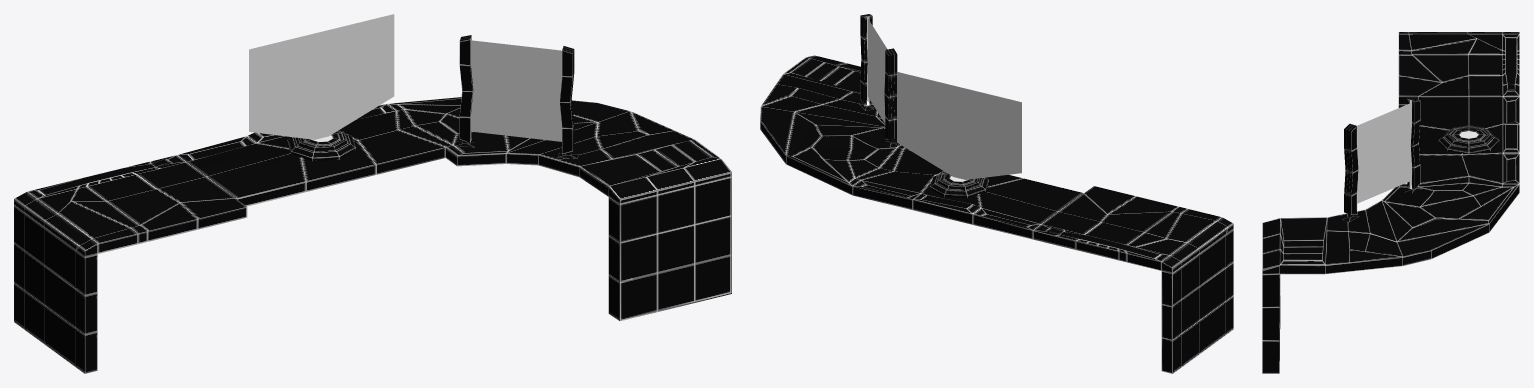
The model's file is MonitorSetup.fbx.
3 renders of one model, left to right at view 1: azimuth 30°, elevation 25°; view 2: azimuth 150°, elevation 25°; view 3: azimuth 270°, elevation 25°, orthographic. The views are drawn at different scales.
Visible parts, largest first — view 1: mesa, MainQuad, HackerQuad, monitorPrincipal, monitorSecundario.001, monitorSecundario; view 2: mesa, MainQuad, HackerQuad, monitorSecundario, monitorPrincipal, monitorSecundario.001; view 3: mesa, HackerQuad, monitorPrincipal, monitorSecundario.001, monitorSecundario.
Part boxes in pixels (left/top/right/bottom): mesa: left=14, top=97, right=731, bottom=373; MainQuad: left=249, top=14, right=394, bottom=139; HackerQuad: left=470, top=40, right=561, bottom=141; monitorPrincipal: left=287, top=130, right=355, bottom=161; monitorSecundario.001: left=557, top=46, right=578, bottom=158; monitorSecundario: left=455, top=35, right=474, bottom=147; mesa: left=760, top=55, right=1233, bottom=373; MainQuad: left=897, top=72, right=1021, bottom=179; HackerQuad: left=867, top=18, right=887, bottom=123; monitorSecundario: left=884, top=48, right=898, bottom=147; monitorPrincipal: left=930, top=171, right=988, bottom=197; monitorSecundario.001: left=859, top=14, right=873, bottom=110; mesa: left=1262, top=32, right=1519, bottom=373; HackerQuad: left=1357, top=102, right=1411, bottom=203; monitorPrincipal: left=1438, top=125, right=1499, bottom=154; monitorSecundario.001: left=1342, top=123, right=1359, bottom=221; monitorSecundario: left=1405, top=98, right=1422, bottom=193.
Bounding box in the file's own units: 101 × 41.68 × 46.54.
